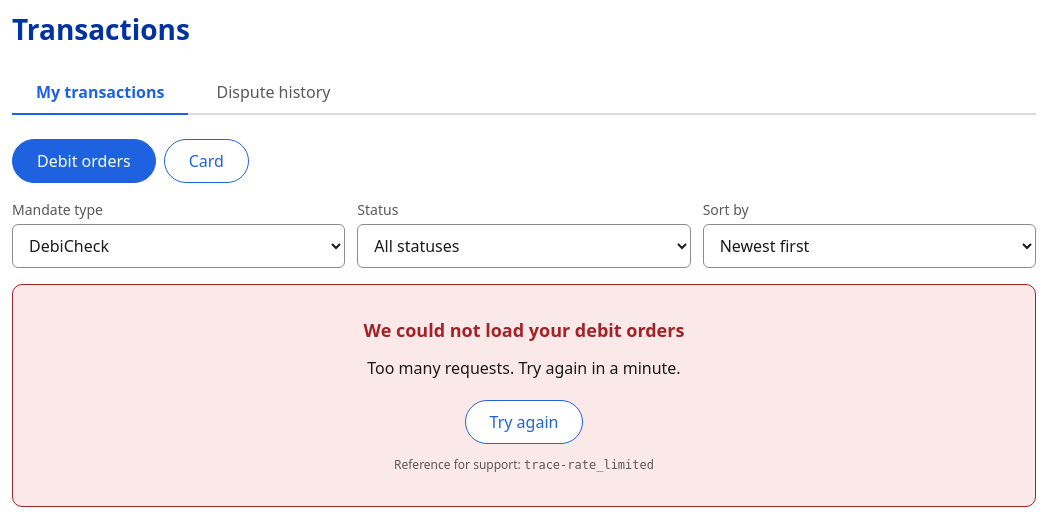
debit order list › shows the API problem with its trace ID and retries
This screenshot has width=1048, height=524.
Expected: the message shows "We could not load your debit orders", [364, 318, 684, 342]
Expected: the message shows "Too many requests. Try again in a minute.", [367, 357, 681, 379]
Click the button "Try again".
click(524, 422)  # box [465, 400, 583, 444]
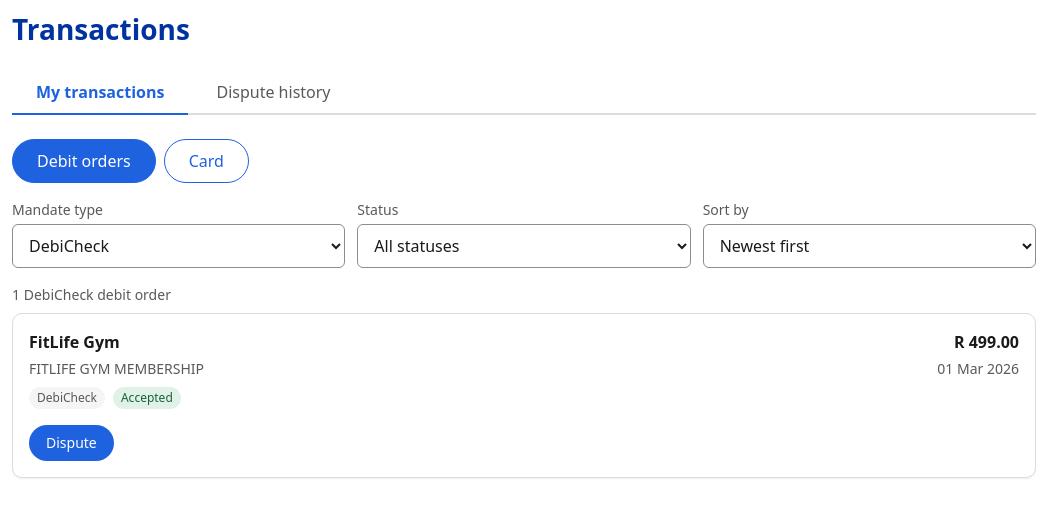
Now the list named "Debit orders" is shown, box [12, 313, 1036, 478]
